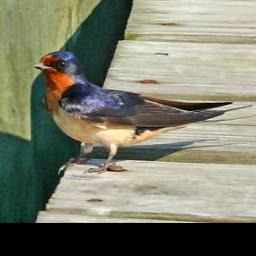Swallow: (32, 50, 230, 175)
